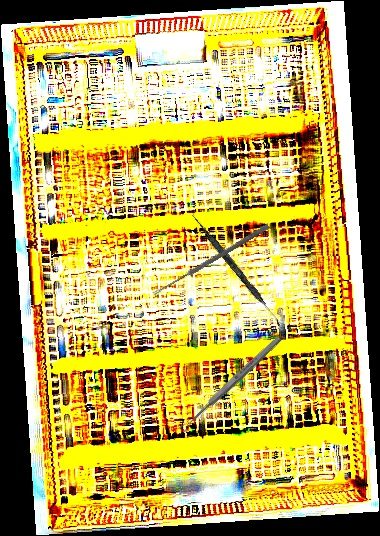Spatula Surgical: (188, 213, 285, 327)
Surgical Spoon: (178, 335, 283, 433), (152, 222, 270, 298)
